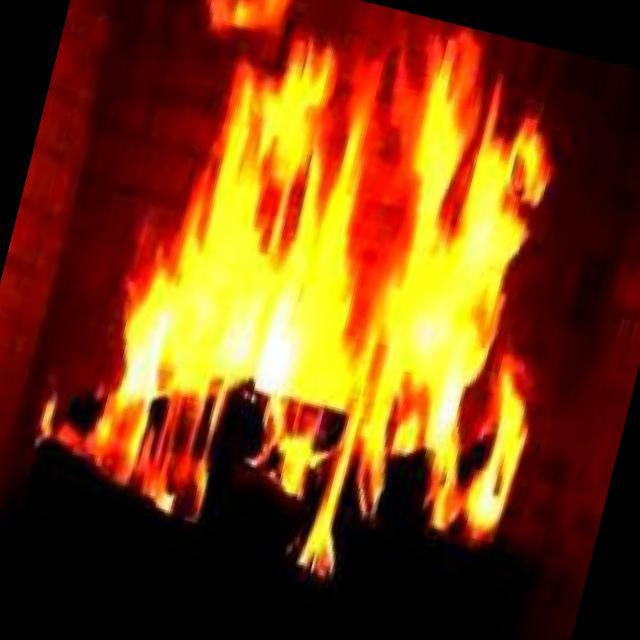Fire: (111, 3, 593, 520)
